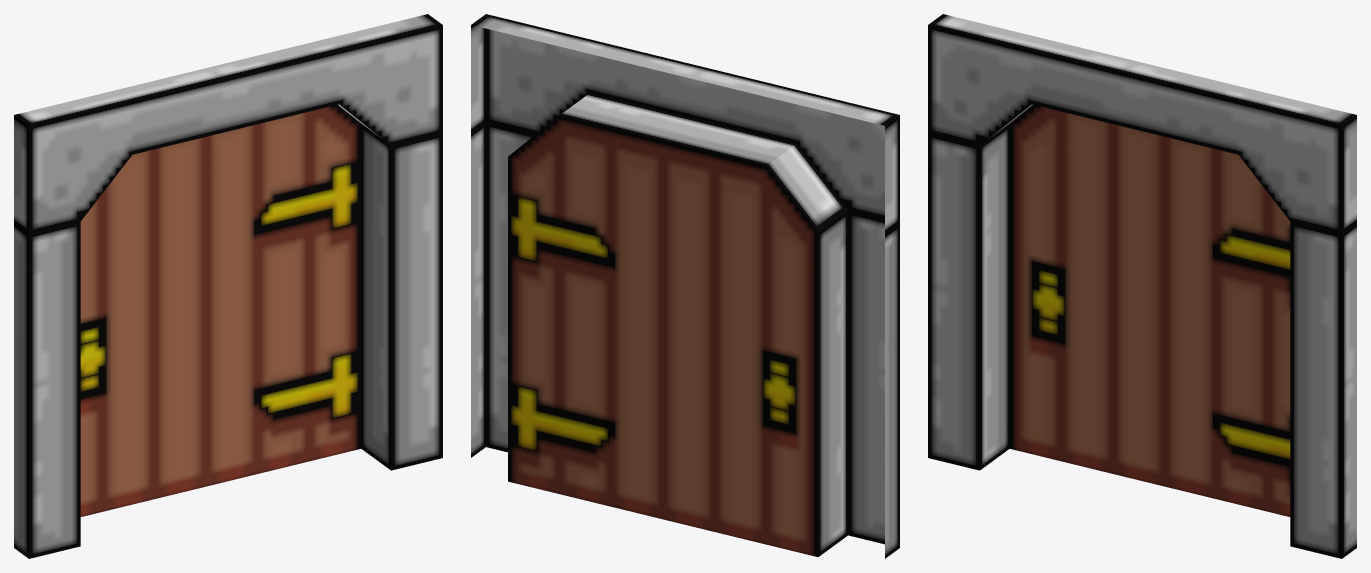
The model's file is door1_closed.glb.
3 views of the same model, side by side, from view 1: azimuth 30°, elevation 25°; view 2: azimuth 150°, elevation 25°; view 3: azimuth 330°, elevation 25° (orthographic).
Visible parts, largest first — view 1: arch_door_wood; view 2: arch_door_wood; view 3: arch_door_wood.
Part boxes in pixels (x1,y1,x2,y2): arch_door_wood: [14, 14, 442, 558]; arch_door_wood: [471, 14, 899, 558]; arch_door_wood: [928, 14, 1356, 558].
Size of the model in its own units: 4 by 4 by 0.5.
Materials: 1 (1 with a texture image).
